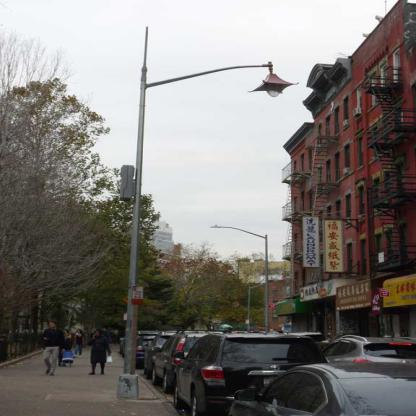Streetlights 1: (106, 13, 324, 416)
